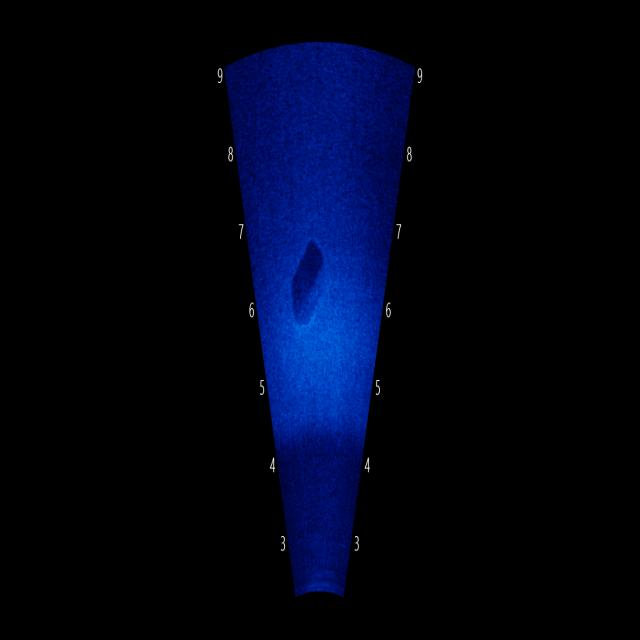square: (283, 243, 337, 338)
